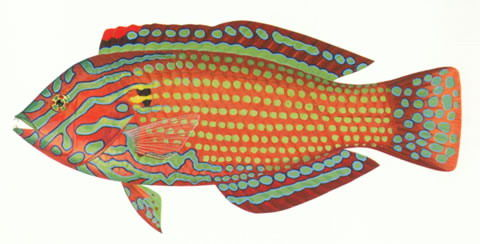fish: (13, 20, 463, 234)
